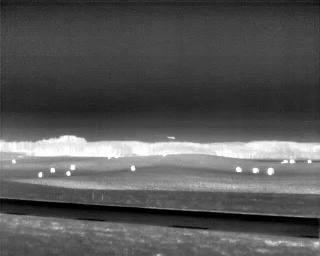AIRPLANE: (165, 133, 177, 141)
